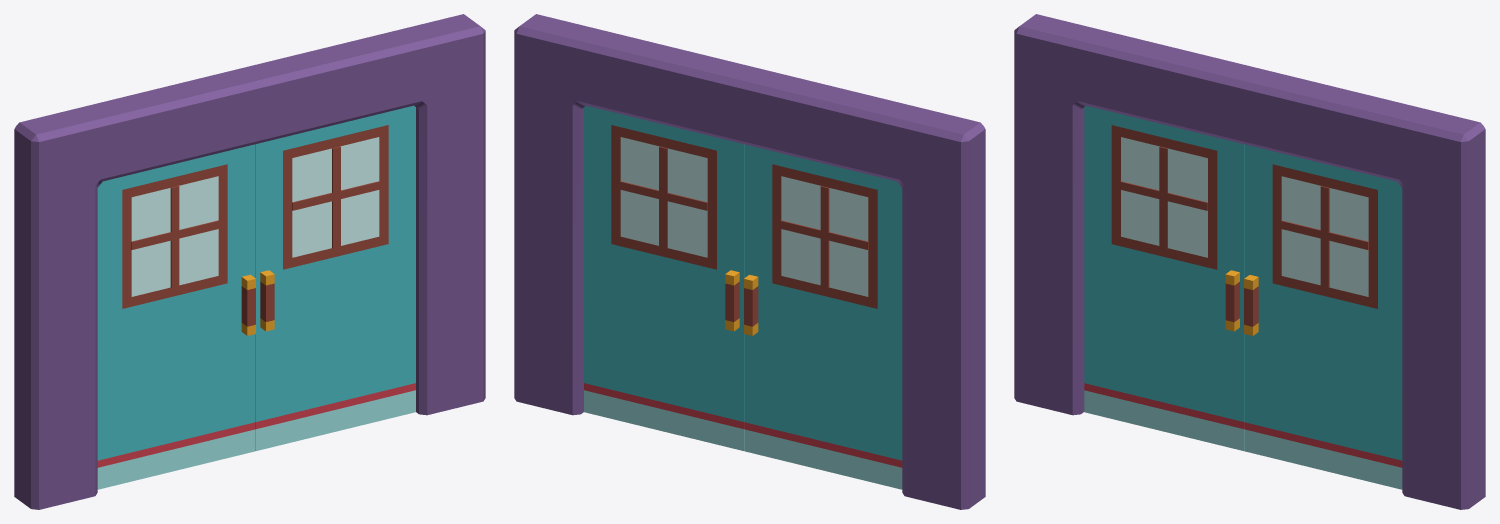
File: Cua_ra_vao.fbx
3 views of the same model, side by side, from view 1: azimuth 30°, elevation 25°; view 2: azimuth 150°, elevation 25°; view 3: azimuth 330°, elevation 25° (orthographic).
Parts seen in each view (by area): view 1: Door_Khung, Door2, Door1; view 2: Door_Khung, Door2, Door1; view 3: Door_Khung, Door1, Door2.
Boxes of the visible parts, x1,y1,x2,y2 form: Door_Khung: (14, 14, 485, 509); Door2: (255, 105, 415, 450); Door1: (97, 144, 255, 489); Door_Khung: (514, 14, 985, 509); Door2: (584, 105, 744, 450); Door1: (744, 144, 902, 489); Door_Khung: (1014, 14, 1485, 509); Door1: (1084, 105, 1244, 451); Door2: (1244, 144, 1402, 489).
Bounding box in the file's own units: 496 × 389 × 42.7.
1 material, 1 textured.
